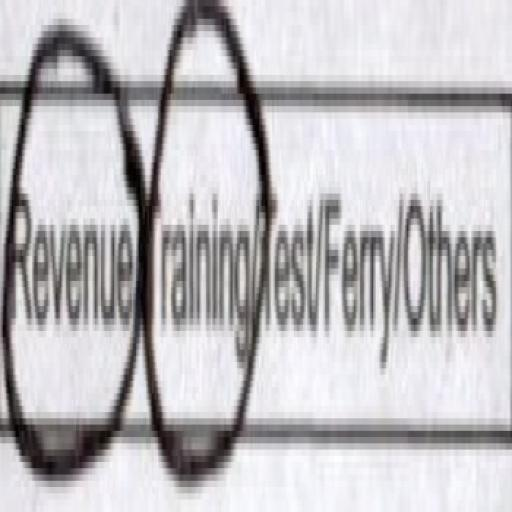check: (0, 0, 145, 512), (148, 0, 258, 512)
